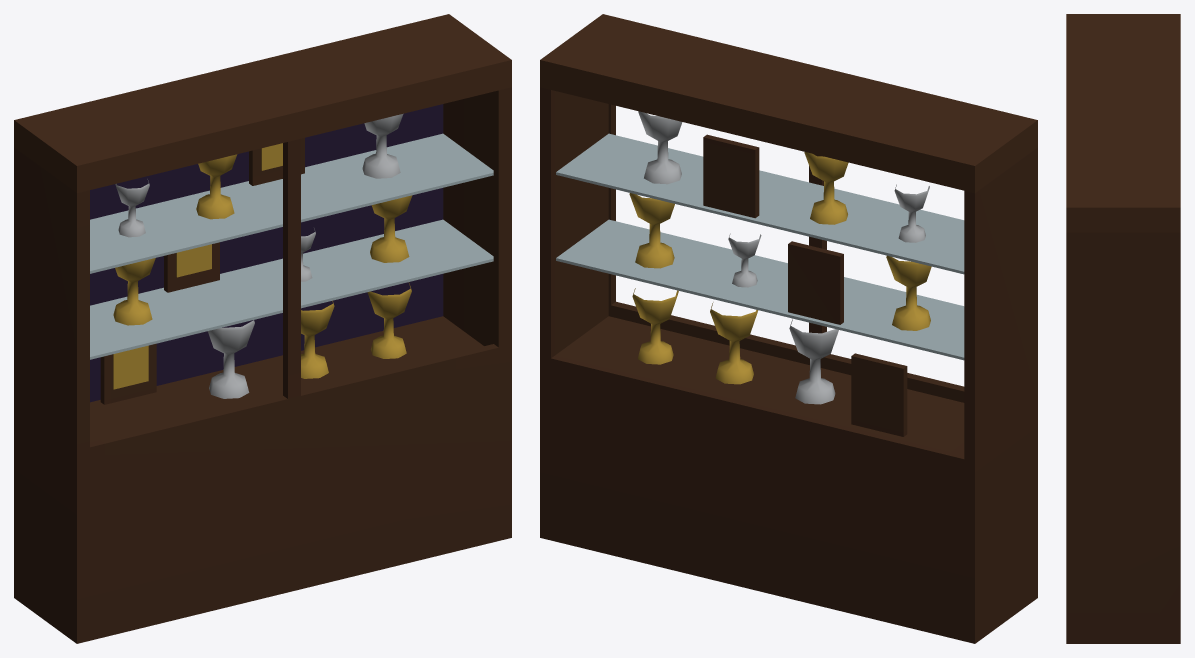
Rendered from cabinet.trophy.walnut.glb.
The picture shows the model from 3 angles, left to right: view 1: azimuth 30°, elevation 25°; view 2: azimuth 150°, elevation 25°; view 3: azimuth 270°, elevation 25°; orthographic projection. The views are drawn at different scales.
Parts seen in each view (by area): view 1: cabinet_trophy_walnut; view 2: cabinet_trophy_walnut; view 3: cabinet_trophy_walnut.
Boxes of the visible parts, x1=… form: cabinet_trophy_walnut: x1=14, y1=14, x2=511, y2=643; cabinet_trophy_walnut: x1=540, y1=14, x2=1037, y2=643; cabinet_trophy_walnut: x1=1066, y1=14, x2=1180, y2=643.
Size of what is drawn, in the model's own units: 2 by 2.1 by 0.5.
